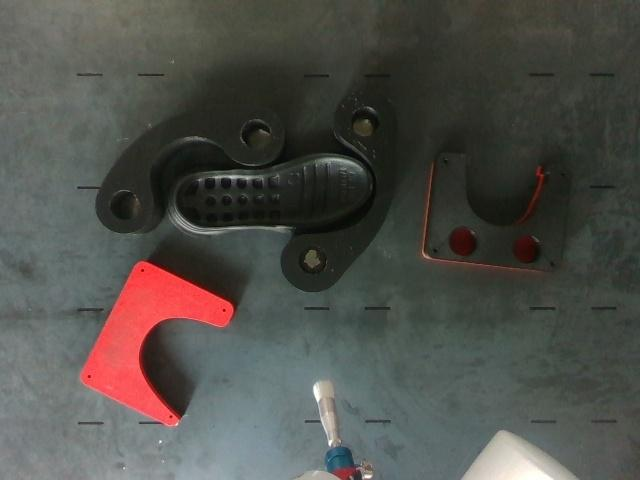shoes: (174, 157, 370, 227)
